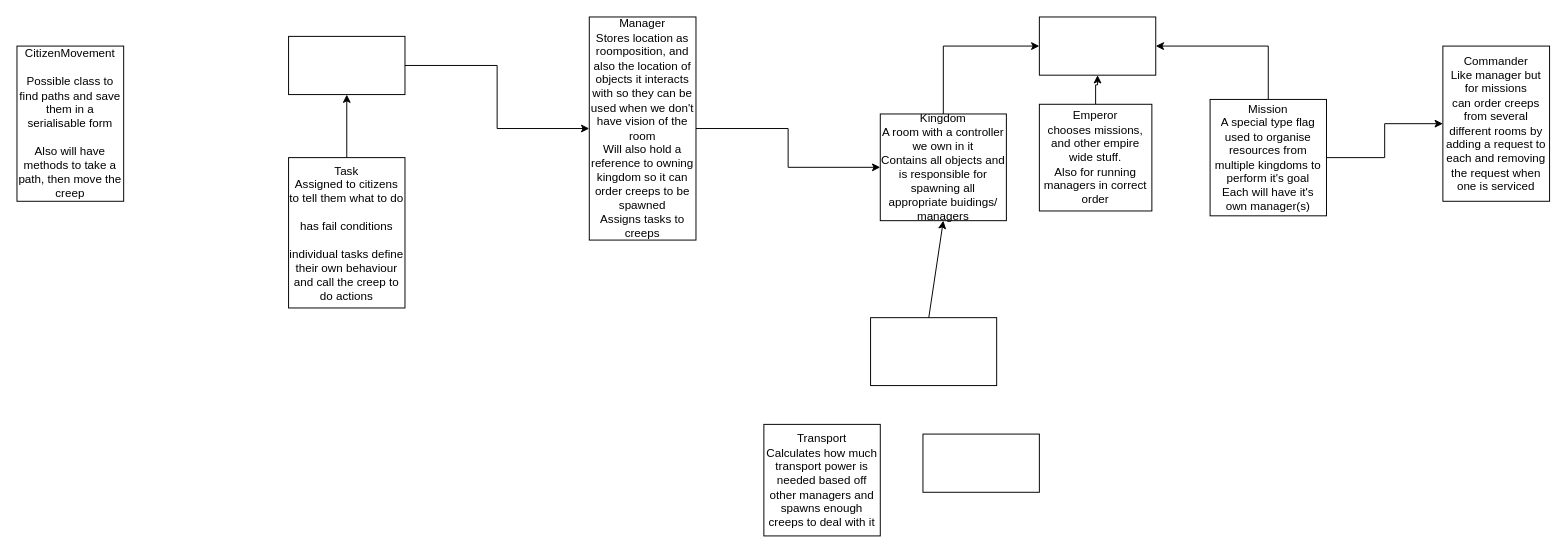
The diagram is 1567 pixels wide and 553 high, and some of its shapes have lost their labels. Here are the shapes that lost their labels. From the top down, the box of each, then its label:
(288, 35, 405, 95): Citizen Wrapper for creep
(1038, 16, 1156, 75): Empire The main game object containing all other parts
(870, 317, 997, 386): Building Used to help organise the kingdoms into blocks for easier usage
(922, 433, 1039, 492): Mine Harvests a source
